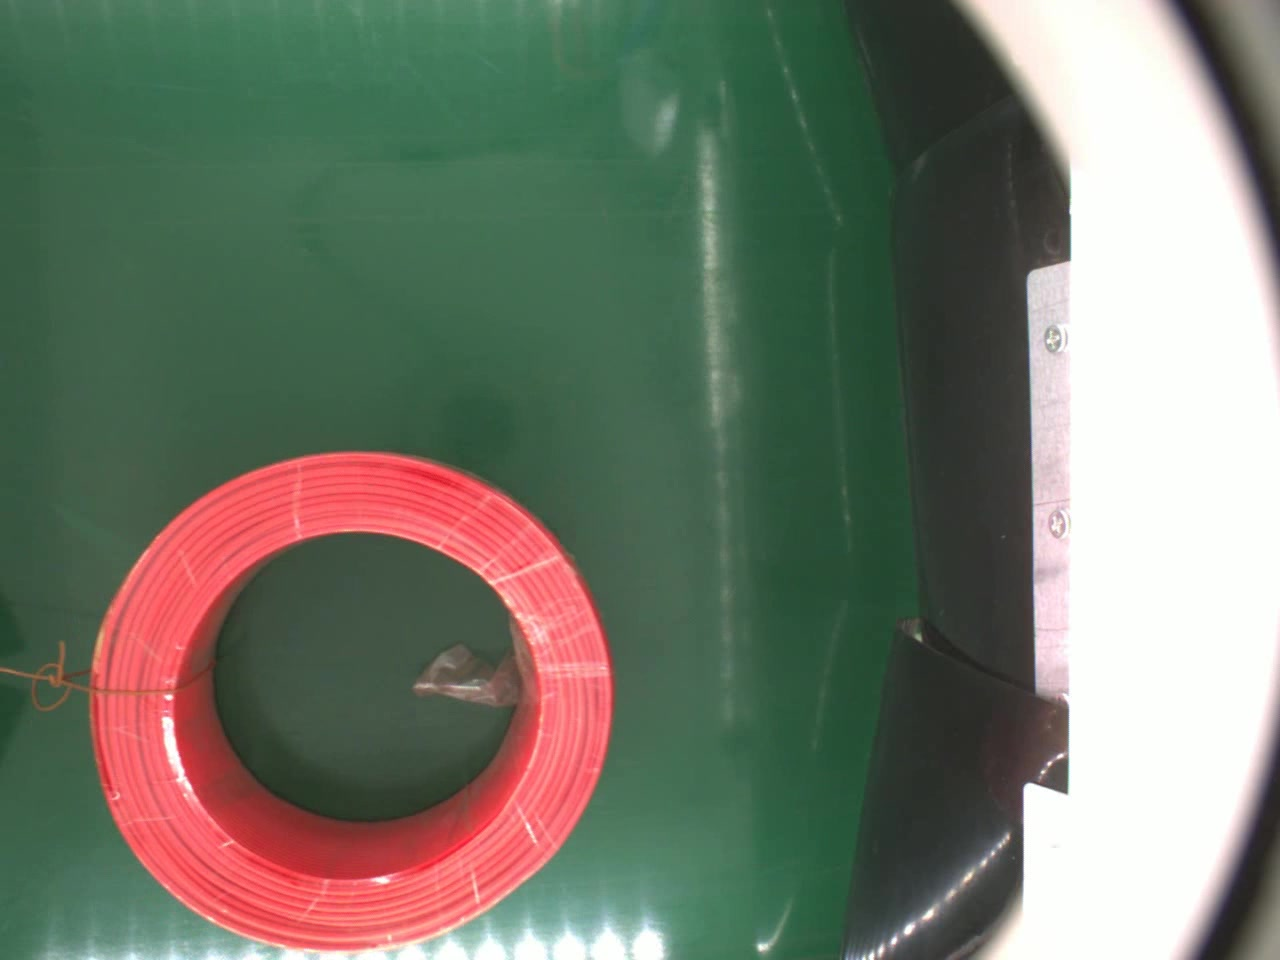red: (85, 446, 617, 952)
